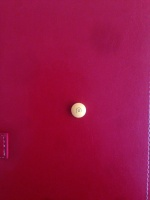Nurofen: (70, 102, 87, 119)
